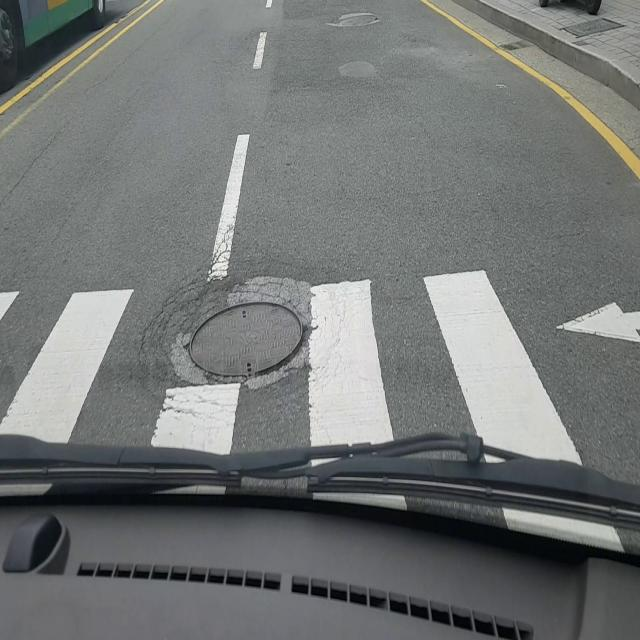Pothole: (182, 297, 309, 387)
